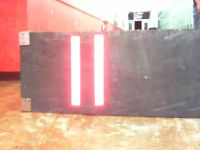switch: (93, 34, 104, 105), (70, 35, 81, 104)
